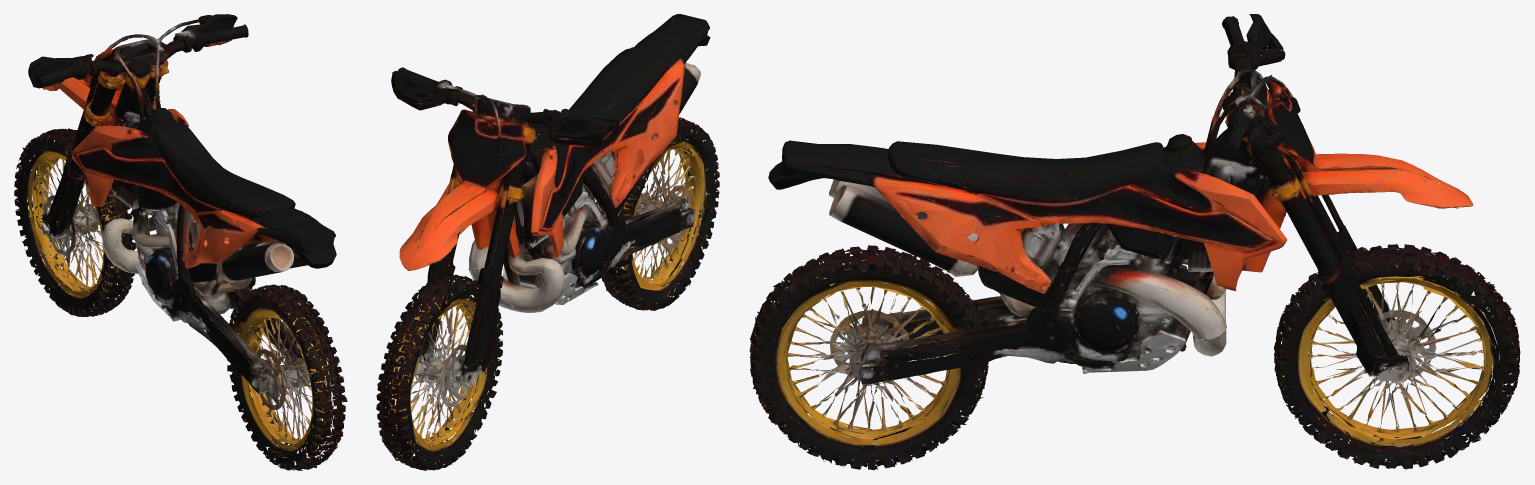
Rendered from bike_hard300.glb.
The picture shows the model from 3 angles, left to right: view 1: azimuth 30°, elevation 25°; view 2: azimuth 150°, elevation 25°; view 3: azimuth 270°, elevation 25°; orthographic projection. The views are drawn at different scales.
Visible parts, largest first — view 1: bike_body, wheel_r, wheel_f; view 2: bike_body, wheel_f, wheel_r; view 3: bike_body, wheel_r, wheel_f.
Part boxes in pixels (x1,y1,x2,y2): bike_body: (28, 14, 336, 387); wheel_r: (222, 284, 347, 470); wheel_f: (14, 128, 136, 316); bike_body: (391, 14, 710, 370); wheel_f: (376, 263, 503, 470); wheel_r: (601, 117, 719, 310); bike_body: (768, 14, 1472, 385); wheel_r: (749, 245, 988, 470); wheel_f: (1273, 244, 1520, 469).
Size of the model in its own units: 0.9677 by 1.38 by 2.44.
1 material, 1 textured.
